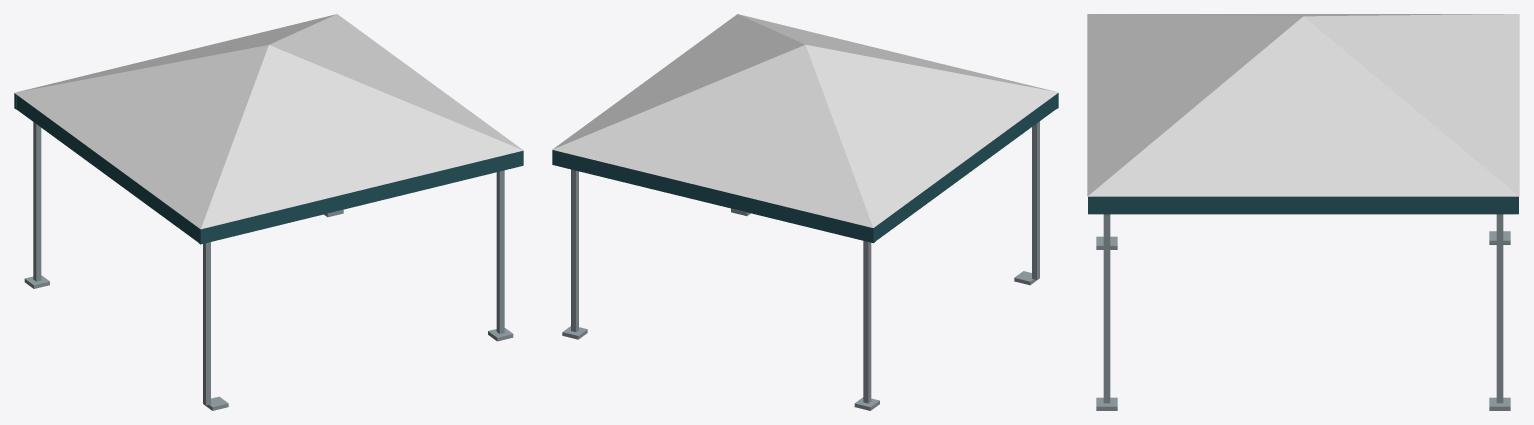
File: source-edit.glb
3 views of the same model, side by side, from view 1: azimuth 30°, elevation 25°; view 2: azimuth 150°, elevation 25°; view 3: azimuth 270°, elevation 25° (orthographic). The views are drawn at different scales.
Visible parts, largest first — view 1: Pyramid_Canopy, Valance, Side_Valance, Leg.002, Leg.001, Leg; view 2: Pyramid_Canopy, Valance.001, Side_Valance, Leg.001, Leg.003, Leg; view 3: Pyramid_Canopy, Side_Valance.001, Leg.002, Leg.003.
Boxes of the visible parts, box(x1,y1,x2,y2) form: Pyramid_Canopy: box(14, 14, 523, 229); Valance: box(198, 150, 523, 244); Side_Valance: box(17, 95, 198, 241); Leg.002: box(496, 170, 504, 333); Leg.001: box(33, 122, 41, 281); Leg: box(203, 242, 210, 405); Pyramid_Canopy: box(552, 14, 1058, 227); Valance.001: box(552, 150, 875, 243); Side_Valance: box(875, 94, 1056, 240); Leg.001: box(863, 241, 871, 403); Leg.003: box(571, 169, 578, 331); Leg: box(1032, 121, 1039, 279); Pyramid_Canopy: box(1087, 14, 1519, 196); Side_Valance.001: box(1092, 196, 1514, 214); Leg.002: box(1103, 214, 1110, 403); Leg.003: box(1496, 214, 1503, 403).
Bounding box in the file's own units: 4.4 × 3.45 × 4.4.
